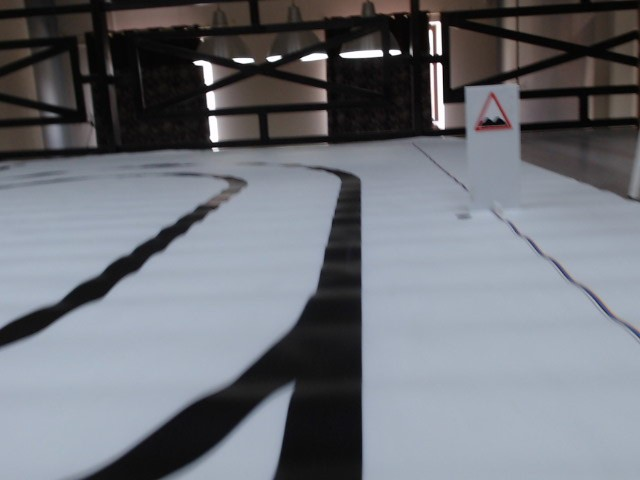Nerov: (471, 92, 512, 134)
